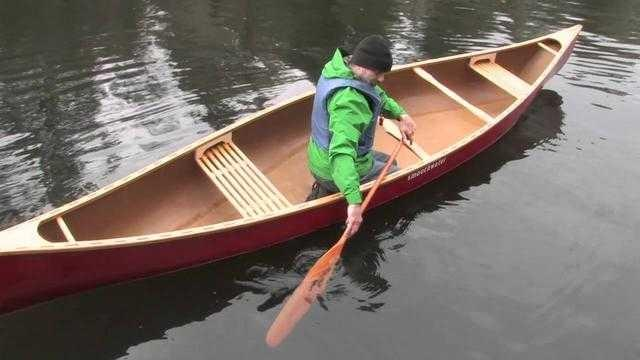kayak: (0, 20, 582, 307)
